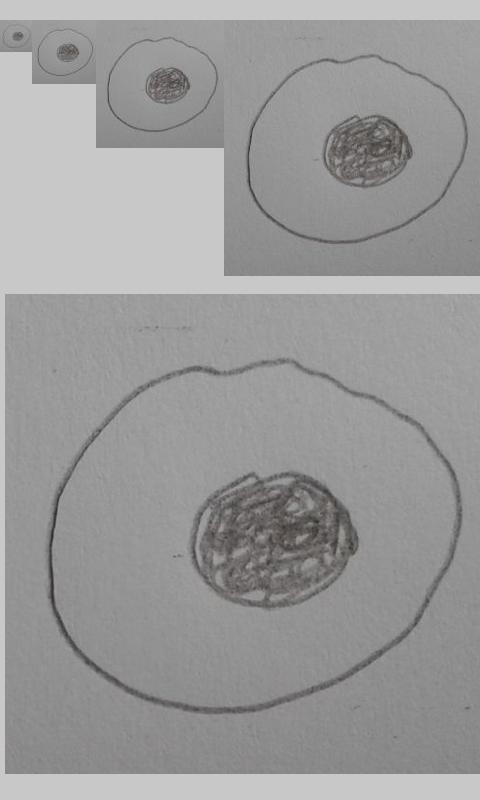radio_button: (42, 355, 466, 720), (244, 52, 470, 246), (105, 35, 220, 134), (36, 27, 95, 78), (2, 23, 32, 49)
